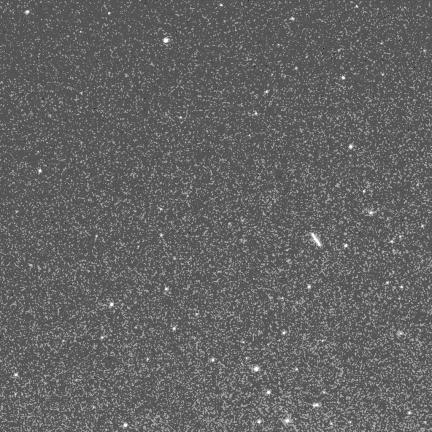blob: (313, 403, 320, 408), (163, 38, 169, 43), (267, 390, 272, 395), (285, 419, 290, 424), (123, 423, 128, 428), (254, 367, 259, 371), (160, 233, 164, 238), (211, 358, 215, 362), (38, 169, 42, 173), (295, 368, 299, 372), (101, 336, 105, 340), (386, 281, 390, 285), (400, 285, 404, 289), (408, 411, 412, 415), (265, 90, 269, 94), (290, 17, 294, 21), (381, 73, 385, 77), (282, 331, 286, 335), (25, 10, 29, 14), (363, 190, 367, 194), (146, 358, 150, 362), (220, 3, 224, 7), (330, 422, 333, 426), (421, 225, 425, 228), (390, 241, 394, 244), (14, 373, 18, 376), (179, 117, 183, 120), (344, 244, 347, 248), (195, 313, 199, 316), (349, 145, 352, 149), (399, 235, 402, 239), (257, 420, 261, 423), (342, 76, 345, 80), (108, 12, 111, 15), (165, 288, 168, 291), (356, 6, 359, 9), (173, 327, 176, 330), (110, 303, 113, 306), (295, 67, 298, 70), (96, 235, 99, 238), (308, 285, 311, 288), (370, 211, 373, 214)
